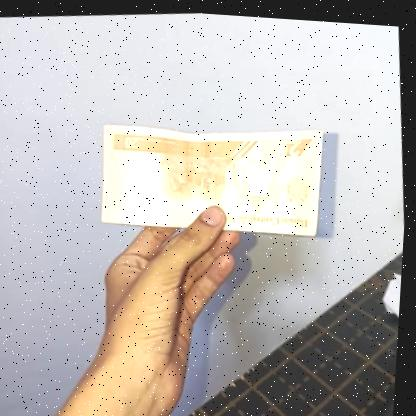twenty-back-vef: (95, 104, 334, 252)
